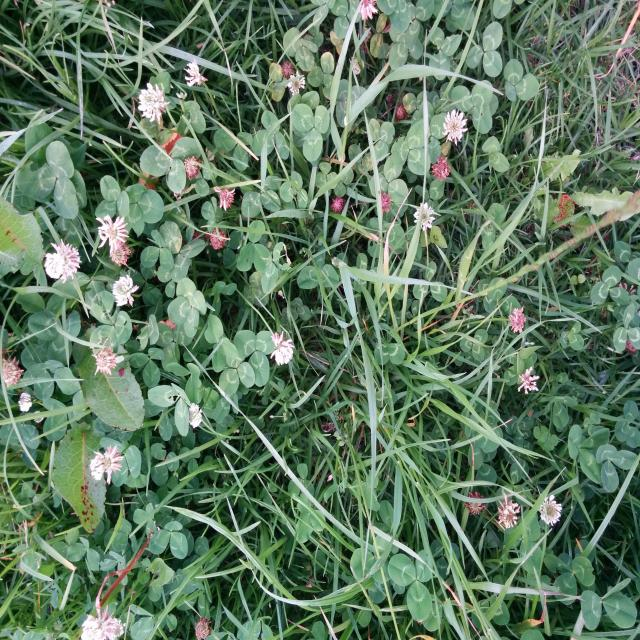Four Leaf Clover: (168, 278, 207, 338)
